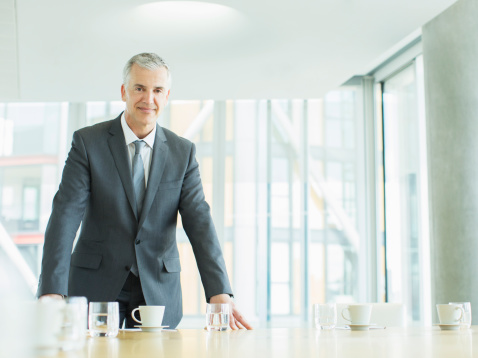em pe: (43, 41, 250, 346)
